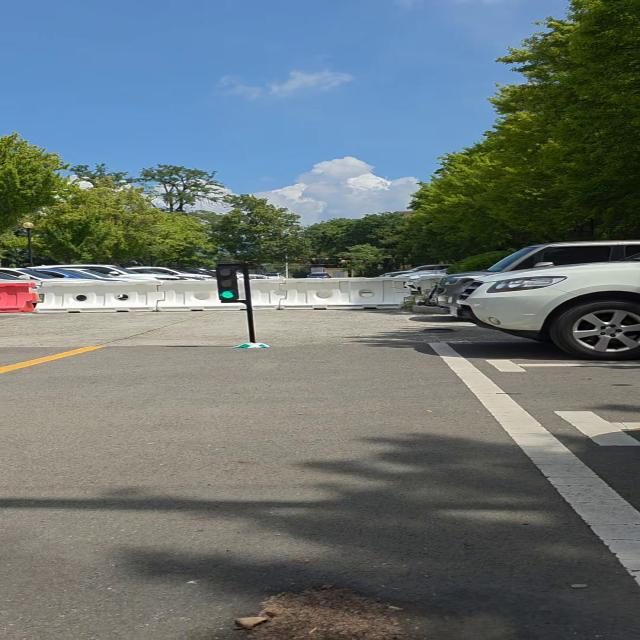green: (215, 262, 244, 302)
